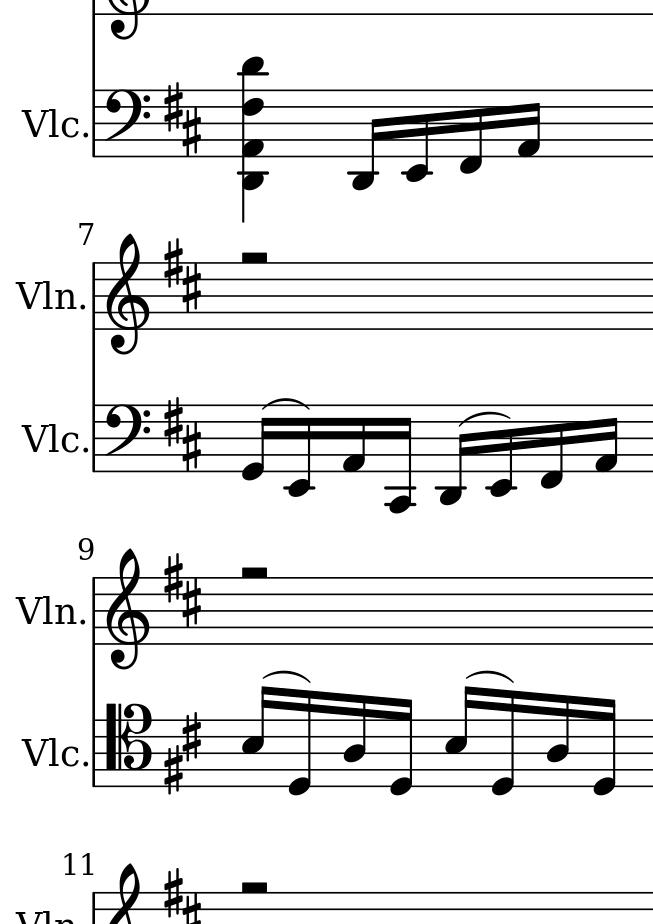16_-1: (458, 87, 485, 176), (539, 402, 566, 491)
16_-2: (283, 407, 313, 501), (402, 87, 430, 185), (487, 404, 514, 500)
16_-3: (349, 88, 385, 193), (436, 403, 471, 507)
16_-4: (384, 403, 416, 516)
16_0: (488, 687, 517, 799), (286, 688, 315, 798), (386, 696, 416, 798), (590, 697, 619, 800), (238, 404, 273, 484)
16_1: (340, 403, 368, 474), (516, 88, 543, 160), (593, 403, 620, 475)
16_4: (341, 693, 368, 788), (545, 693, 572, 788)
16_5: (443, 684, 477, 788), (240, 684, 273, 788)
4_4th: (237, 55, 269, 224)
7: (78, 220, 95, 247)
9: (78, 534, 94, 561)
D_S: (164, 710, 202, 792), (164, 81, 205, 156), (162, 239, 204, 310), (162, 396, 202, 469), (162, 553, 202, 626)
Fclef: (103, 402, 151, 475), (103, 88, 151, 159)
Gclef: (103, 232, 150, 357), (104, 547, 149, 672)
Rests2: (235, 561, 272, 585), (234, 876, 271, 900), (237, 247, 270, 267)
Single_barline: (88, 404, 101, 472), (87, 719, 100, 785), (88, 90, 100, 158), (88, 577, 100, 645), (89, 263, 101, 330)
Slur: (457, 412, 513, 427), (261, 398, 310, 412), (262, 669, 311, 683), (467, 670, 508, 684)
Tensor_Cclef: (102, 702, 153, 788)
Vlc: (20, 730, 80, 773), (20, 417, 79, 460), (20, 105, 79, 144)
Vln: (15, 591, 77, 634), (16, 278, 78, 317)
